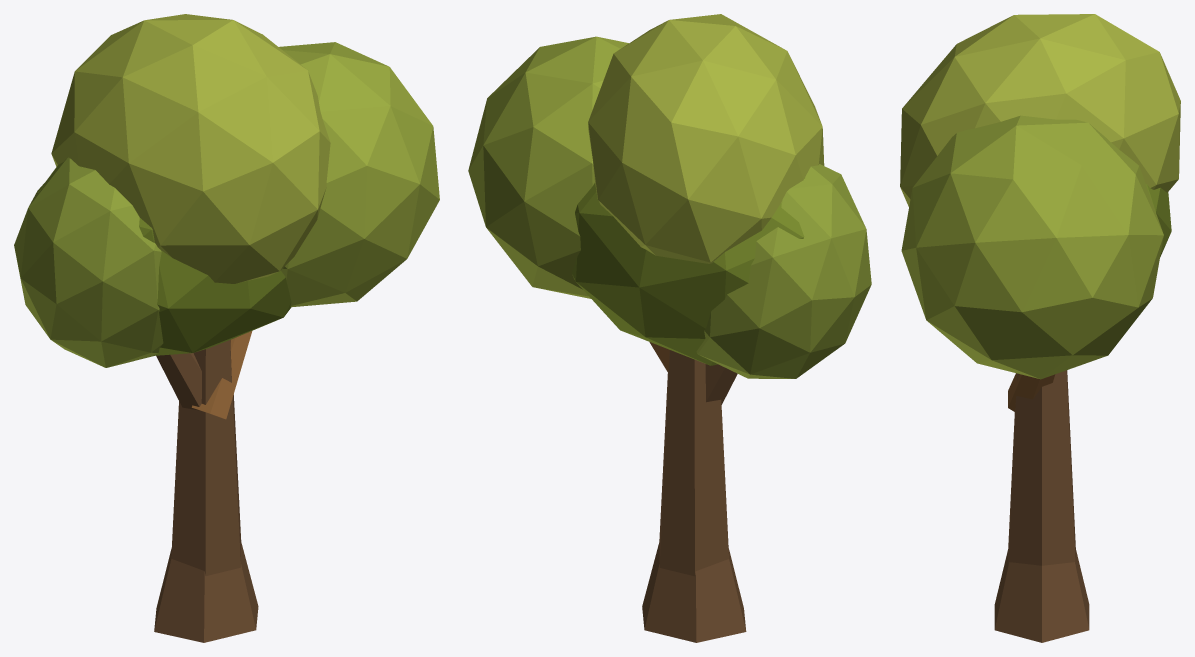
The model's file is tree-canopy-14.gltf.
3 renders of one model, left to right at view 1: azimuth 30°, elevation 25°; view 2: azimuth 150°, elevation 25°; view 3: azimuth 270°, elevation 25°, orthographic.
Visible parts, largest first — view 1: tree-canopy-14; view 2: tree-canopy-14; view 3: tree-canopy-14.
Boxes of the visible parts, box(x1,y1,x2,y2) form: tree-canopy-14: box(14, 14, 439, 642); tree-canopy-14: box(468, 14, 871, 642); tree-canopy-14: box(900, 14, 1180, 642).
Bounding box in the file's own units: 1.08 × 1.58 × 0.6806.
